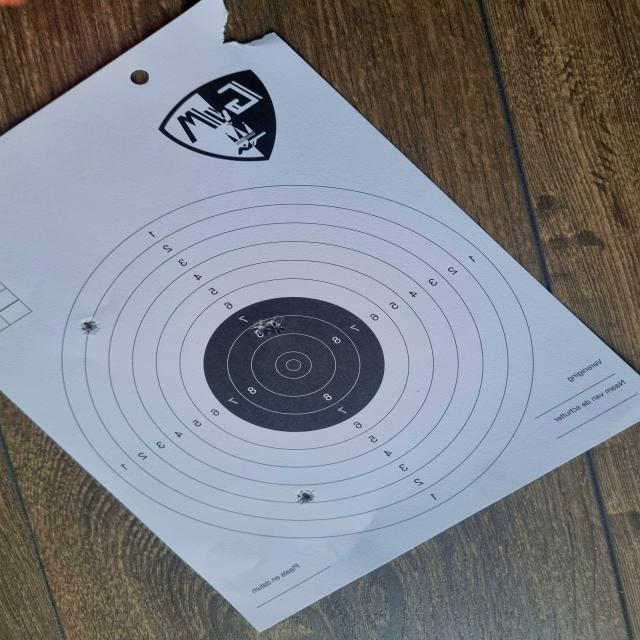2: (80, 319, 101, 334)
3: (295, 490, 316, 506)
8: (268, 318, 286, 336), (251, 320, 269, 338)
Target: (61, 186, 534, 537)
black_contour: (204, 296, 383, 433)
